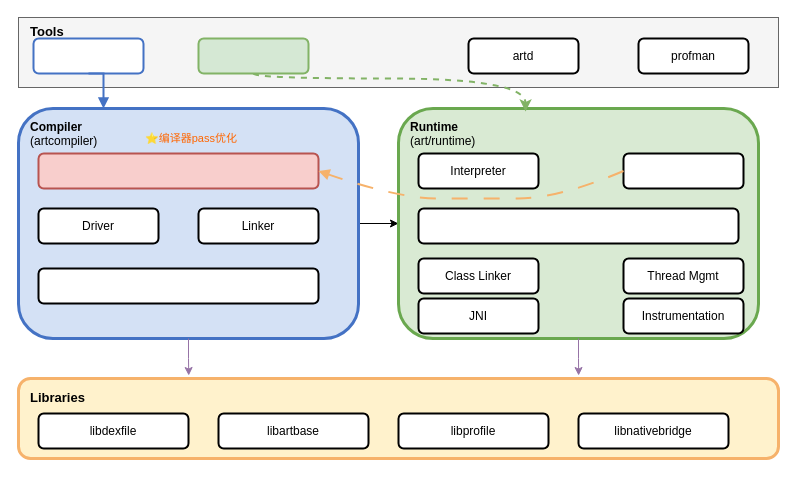
This 797x477 diagram has some shape labels left out. Each missing label, with the centre of its shape:
dalvikvm: (253,55)
dex2oat: (88,55)
GC (Heap): (578,225)
JIT: (683,170)
JNI Compiler: (178,285)
Optimizing Compiler: (178,170)
